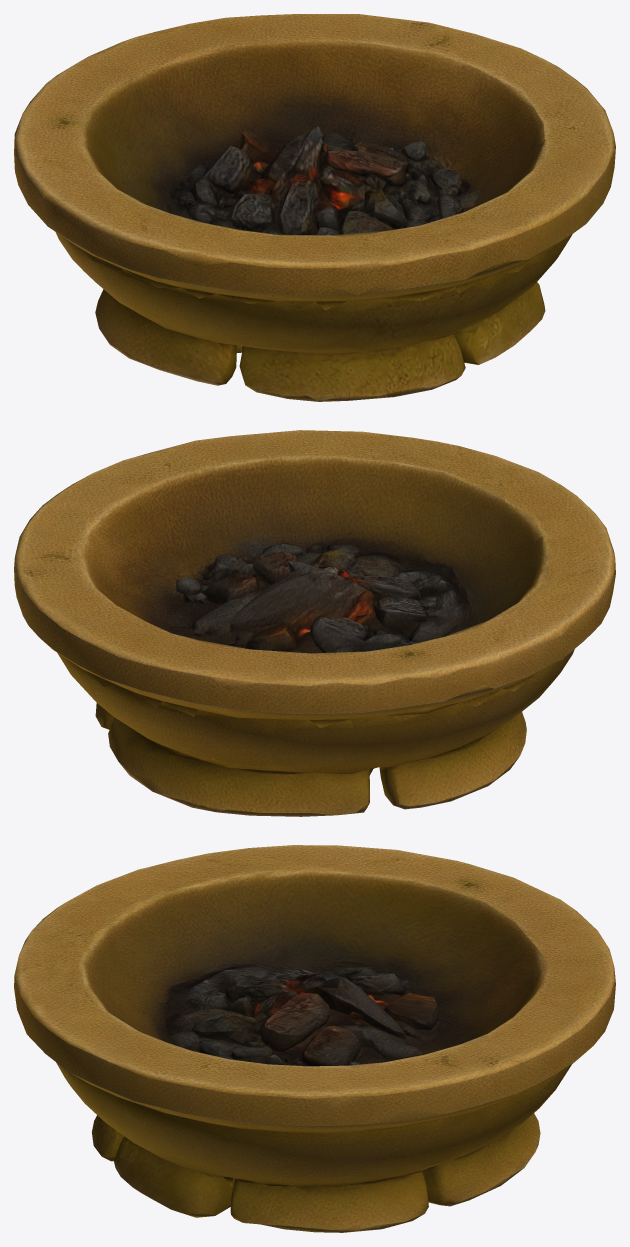
Rendered from brazier.glb.
3 views of the same model, one above another, from view 1: azimuth 30°, elevation 25°; view 2: azimuth 150°, elevation 25°; view 3: azimuth 270°, elevation 25° (orthographic).
Bounding box in the file's own units: 1.88 × 0.6058 × 1.9.
Materials: 1 (1 with a texture image).
